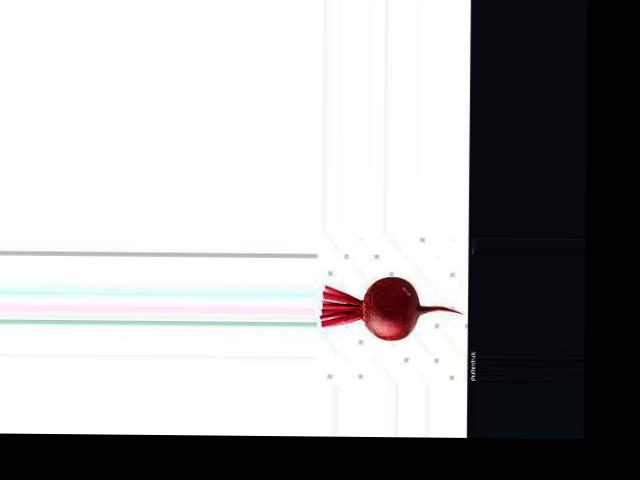beet: (321, 276, 464, 340)
